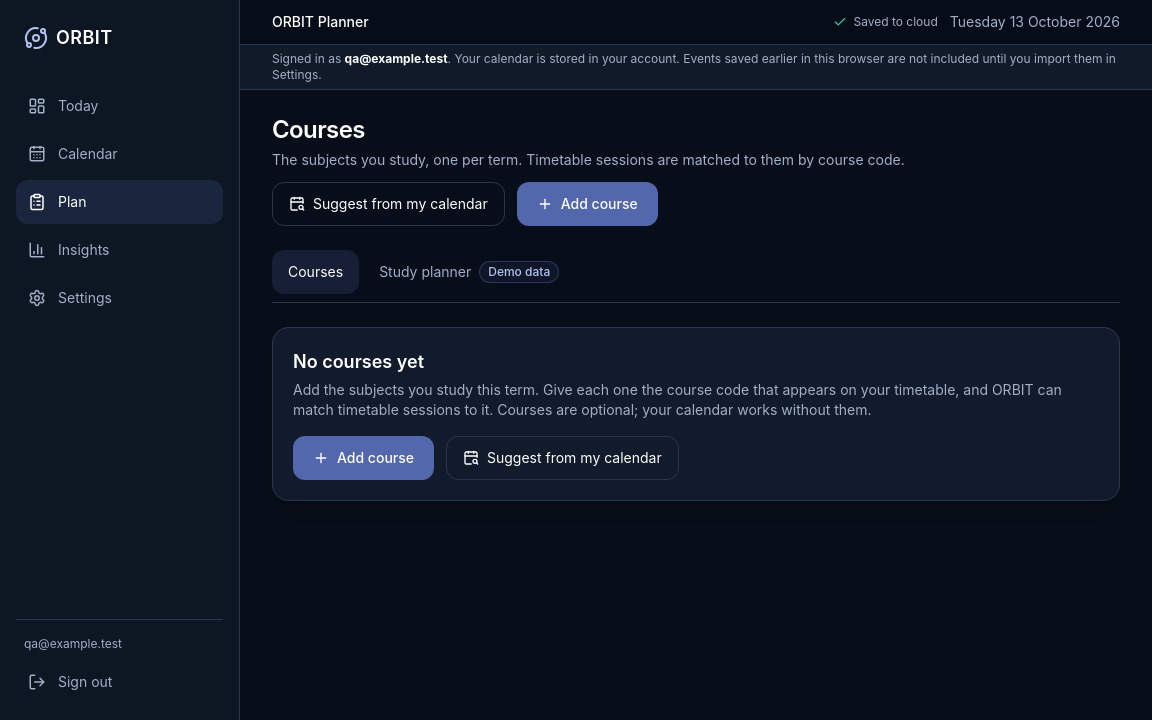
suggest from my calendar › creates only the selected, edited candidates, resolves them, and never writes to the calendar
This screenshot has width=1152, height=720.
expect the heading "Courses" is shown: met, box [272,115,365,144]
Click the 1st button "Suggest from my calendar": (388, 204) [272,182,505,226]
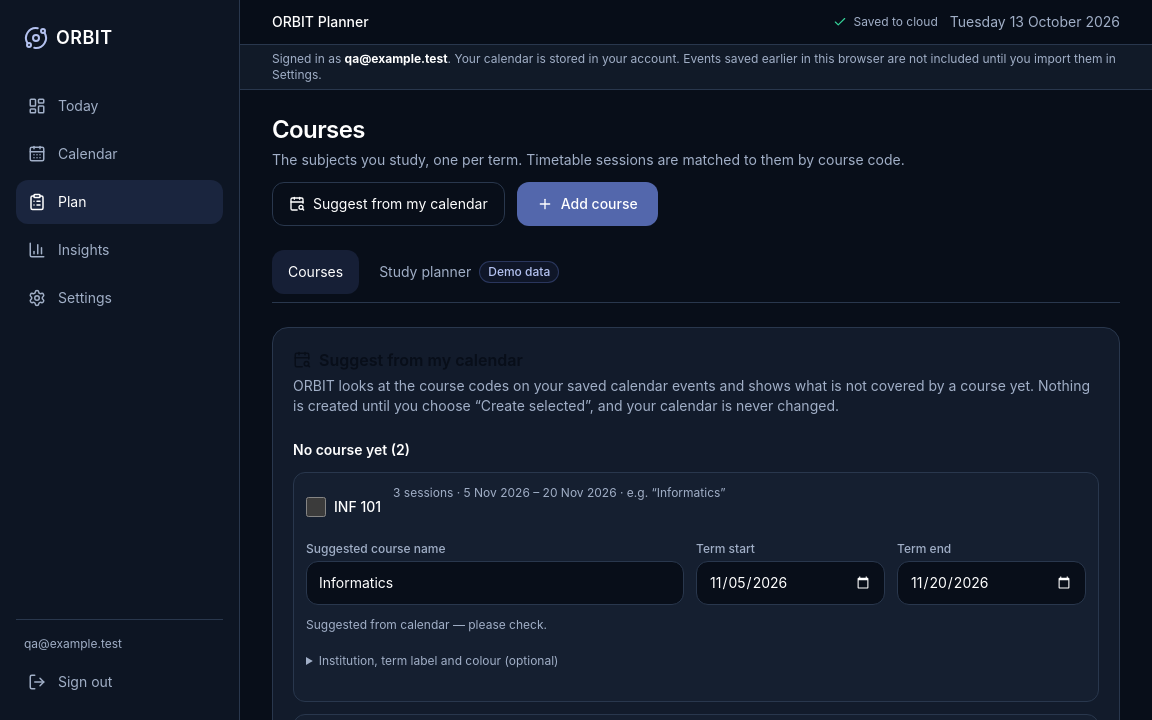
Click the checkbox named "Select INF 101": (316, 507) [306,497,326,517]
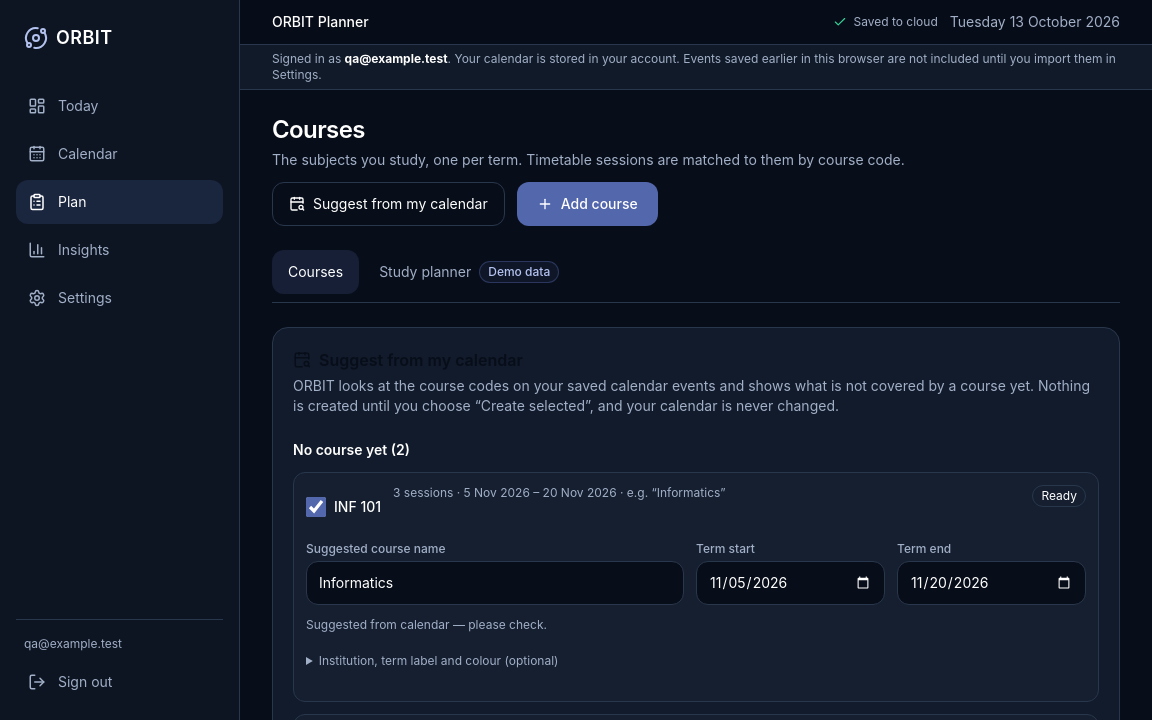
Replace the text in the field labelled "Suggested course name" with "Introduction to Informatics": (495, 583) [306,561,684,605]
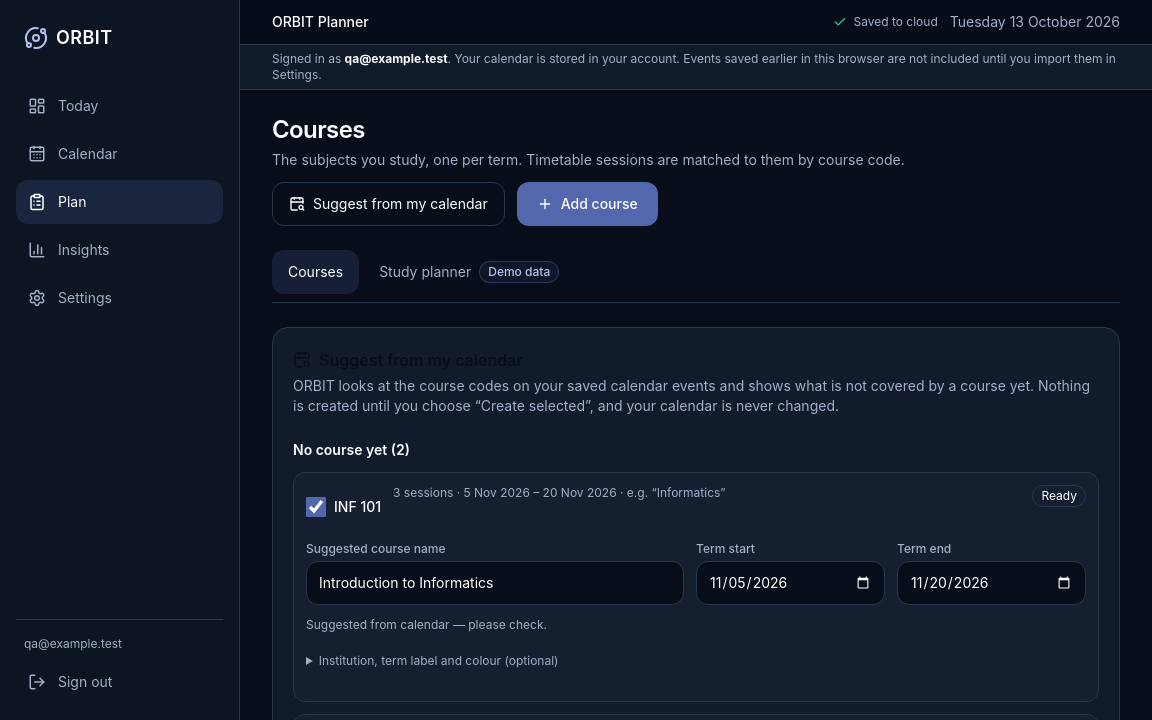
In the date field labelled "Term end": (992, 583) [897,561,1086,605], type "2027-02-12"
(page scrolled)
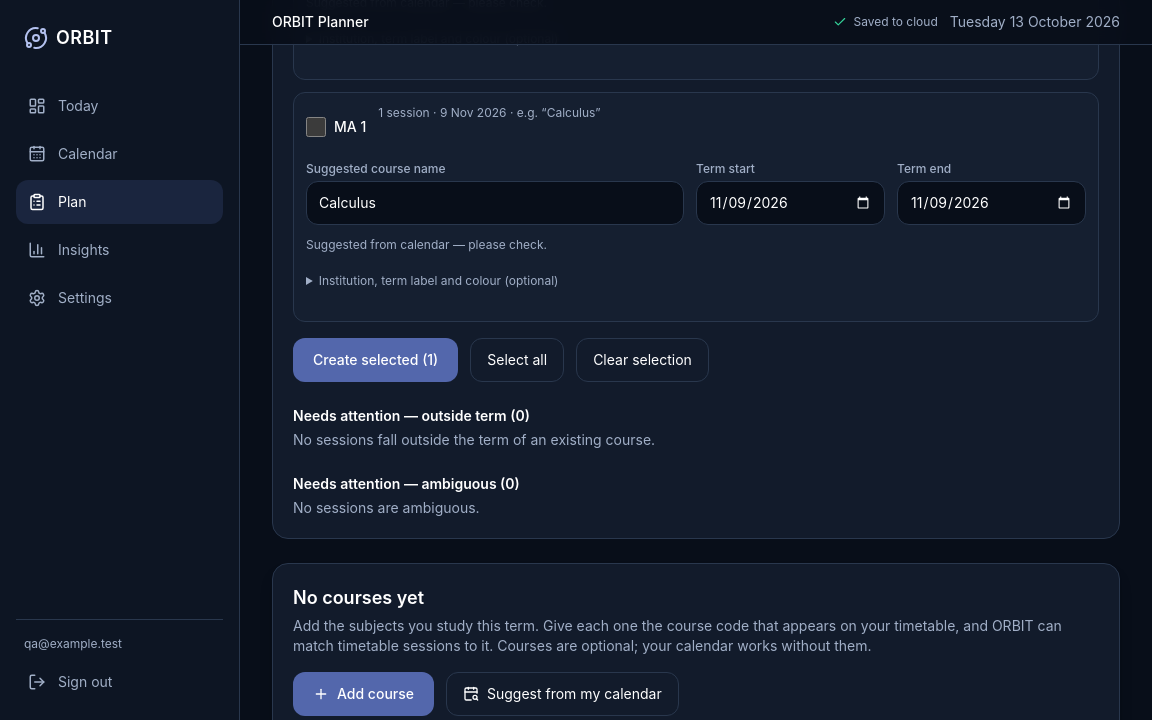
Click the button "Create selected (1)": (376, 360) [293,338,458,382]
(page scrolled)
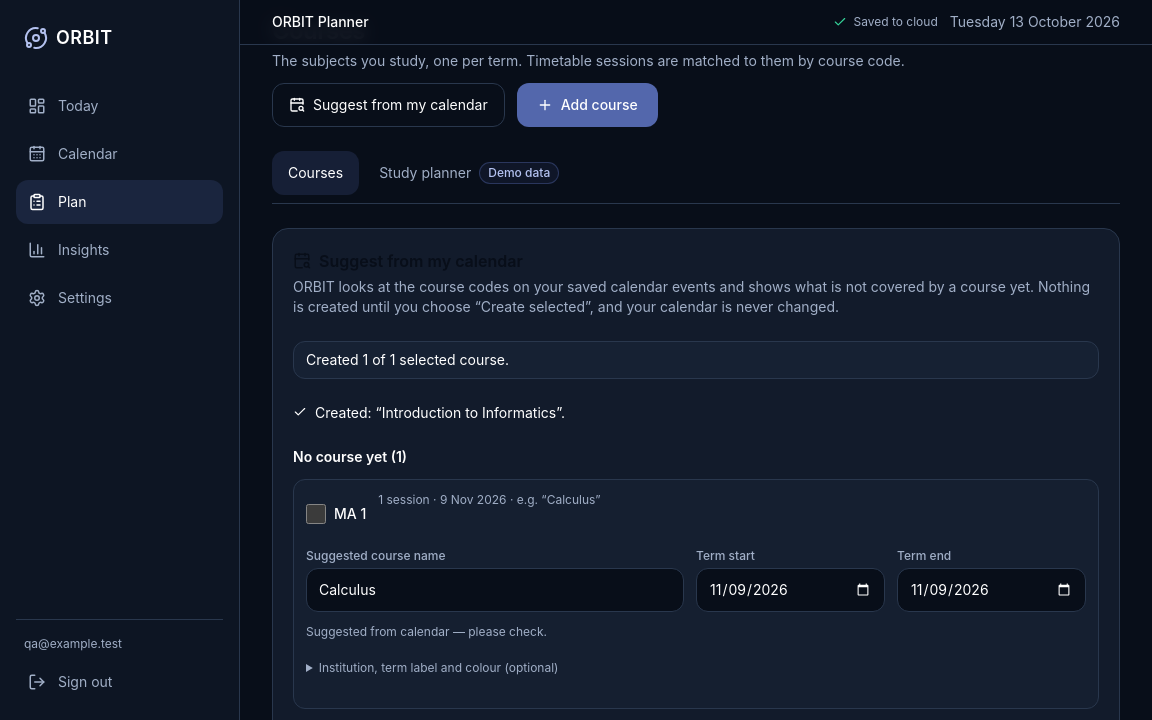
expect the list item is shown: met, box [293,479,1099,709]
expect the message "Created: “Introduction to Informatics”." is shown: met, box [293,404,565,421]
expect the message with test id "suggest-summary" shows "Created 1 of 1": met, box [306,351,509,368]
